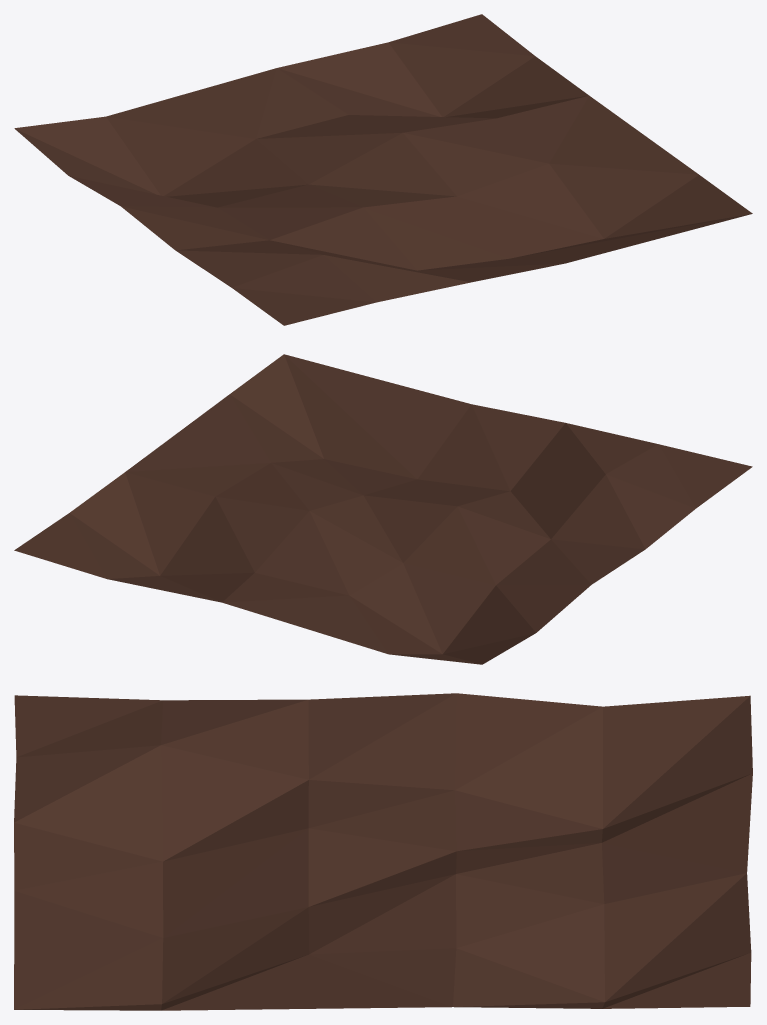
File: Ground.fbx
3 views of the same model, one above another, from view 1: azimuth 30°, elevation 25°; view 2: azimuth 150°, elevation 25°; view 3: azimuth 270°, elevation 25° (orthographic). The views are drawn at different scales.
Visible parts, largest first — view 1: Ground; view 2: Ground; view 3: Ground.
Part boxes in pixels (x1=…): Ground: x1=14, y1=14, x2=752, y2=325; Ground: x1=14, y1=354, x2=752, y2=664; Ground: x1=14, y1=693, x2=752, y2=1010.
Bounding box in the file's own units: 18.02 × 2.24 × 18.01.
1 material, 1 textured.
